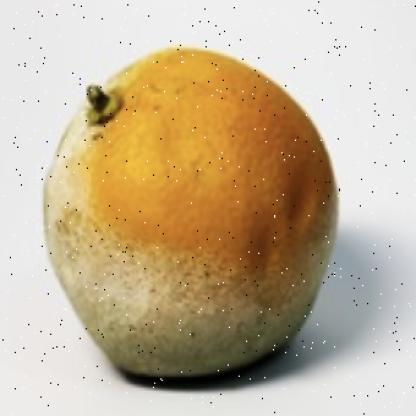rotten: (43, 47, 340, 380)
